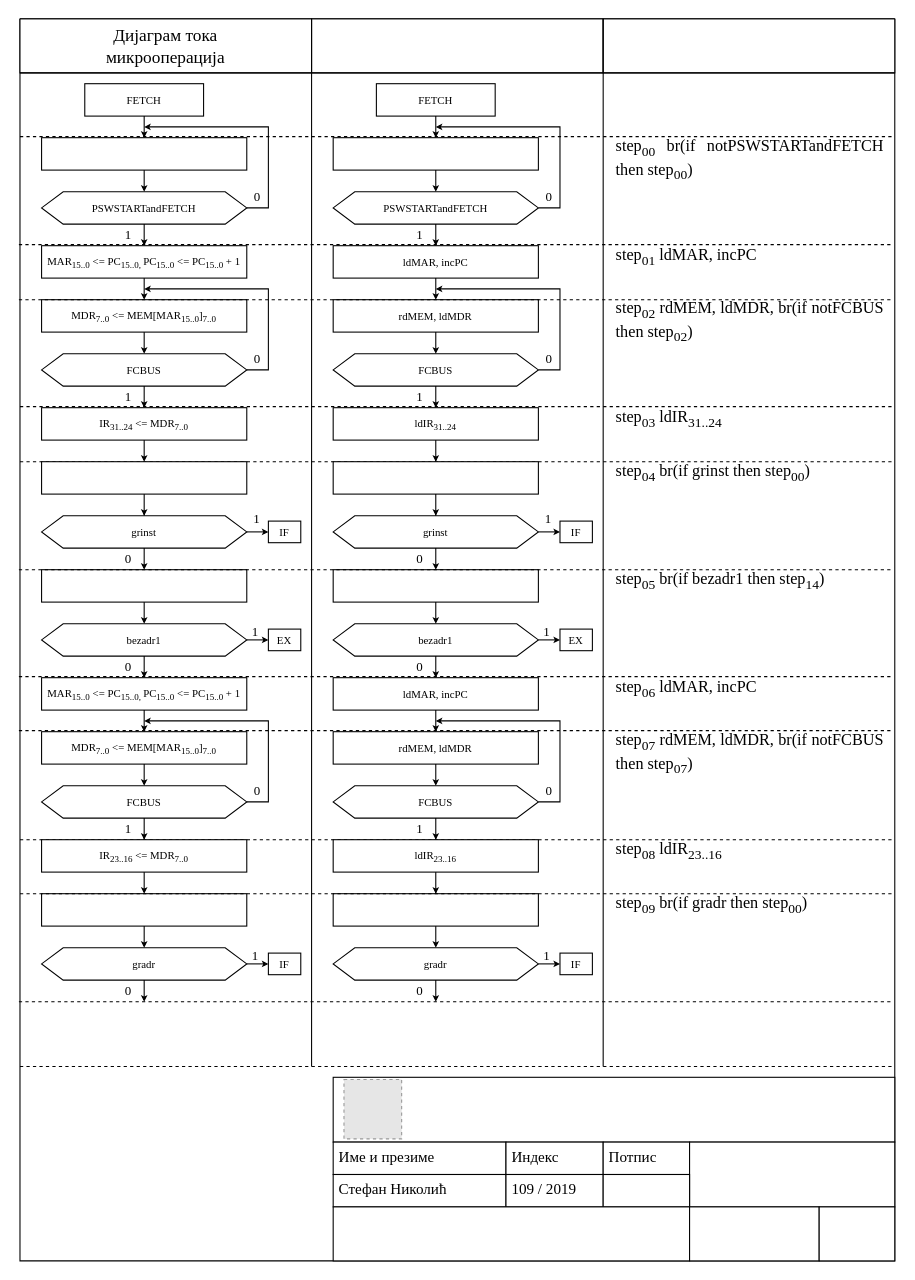
The diagram is 915 pixels wide and 1280 high, and some of its shapes have lost their labels. Grey dashed boxes stand in for pictures. Each missing label, with the box of its shape:
Датум 25.09.2021.: (688, 1206, 819, 1261)
Дијаграм тока управљачких сигнала: (310, 18, 603, 73)
Назив Основи рачунарске технике 2: (332, 1206, 690, 1261)
Пројекат Задатак 209: (688, 1141, 895, 1207)
Секвенца управљачких сигнала: (602, 18, 895, 73)
Страна 1: (818, 1206, 895, 1261)
Универзитет у Београду Електротехнички факултет: (332, 1076, 895, 1142)
